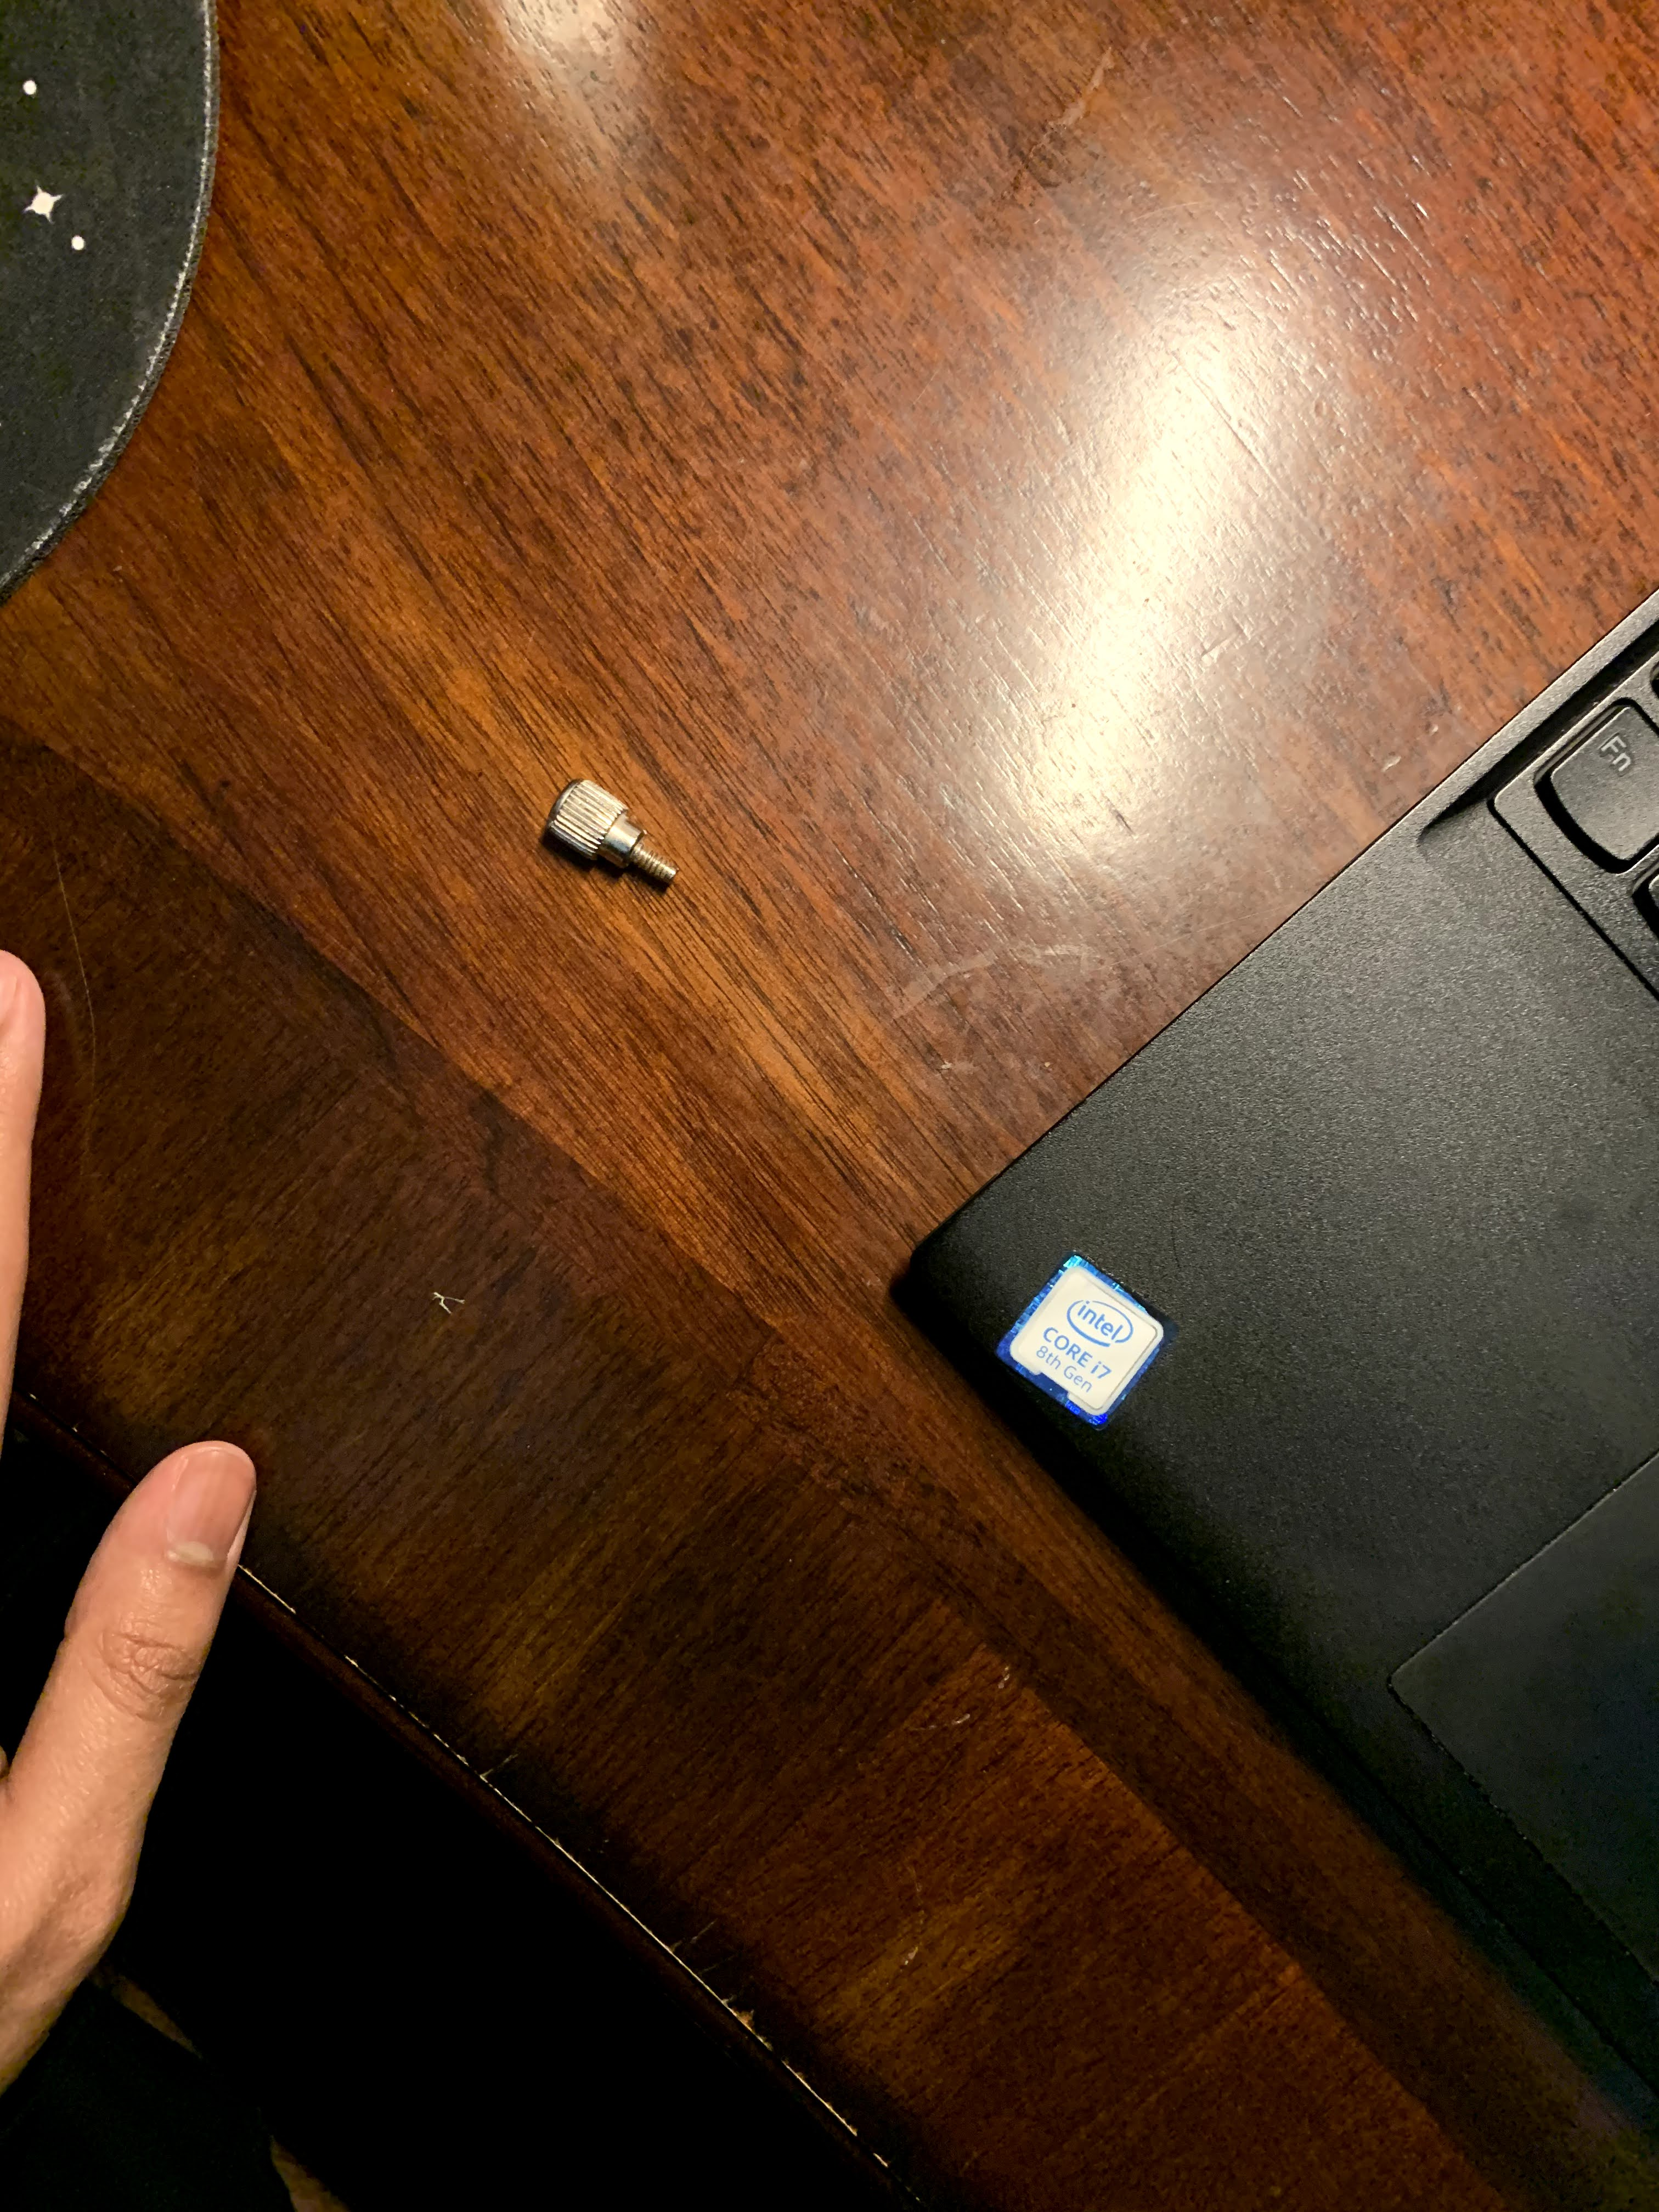Space-debris-small: (535, 775, 687, 894)
